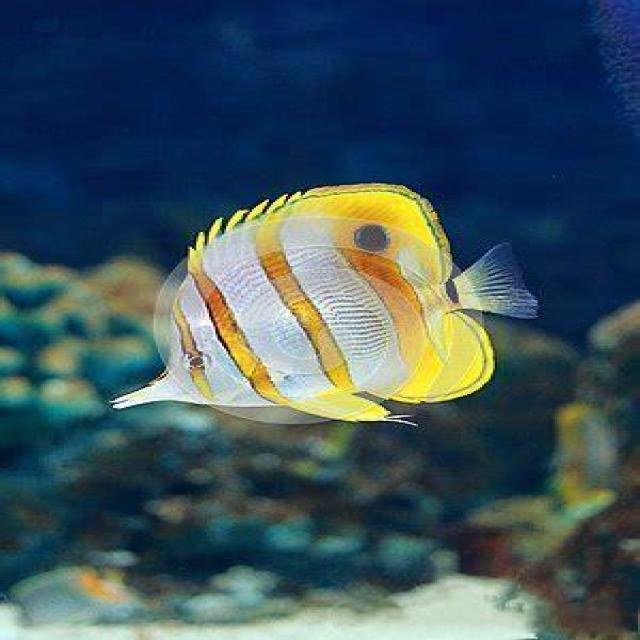ButterflyFish: (109, 182, 540, 446)
